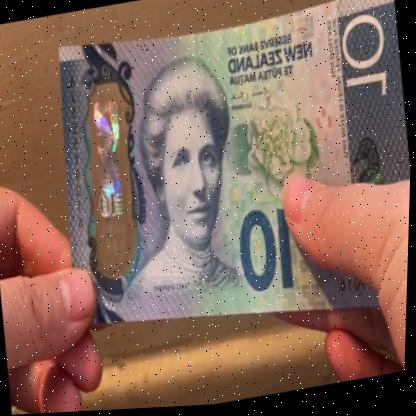10B: (80, 91, 141, 270)
